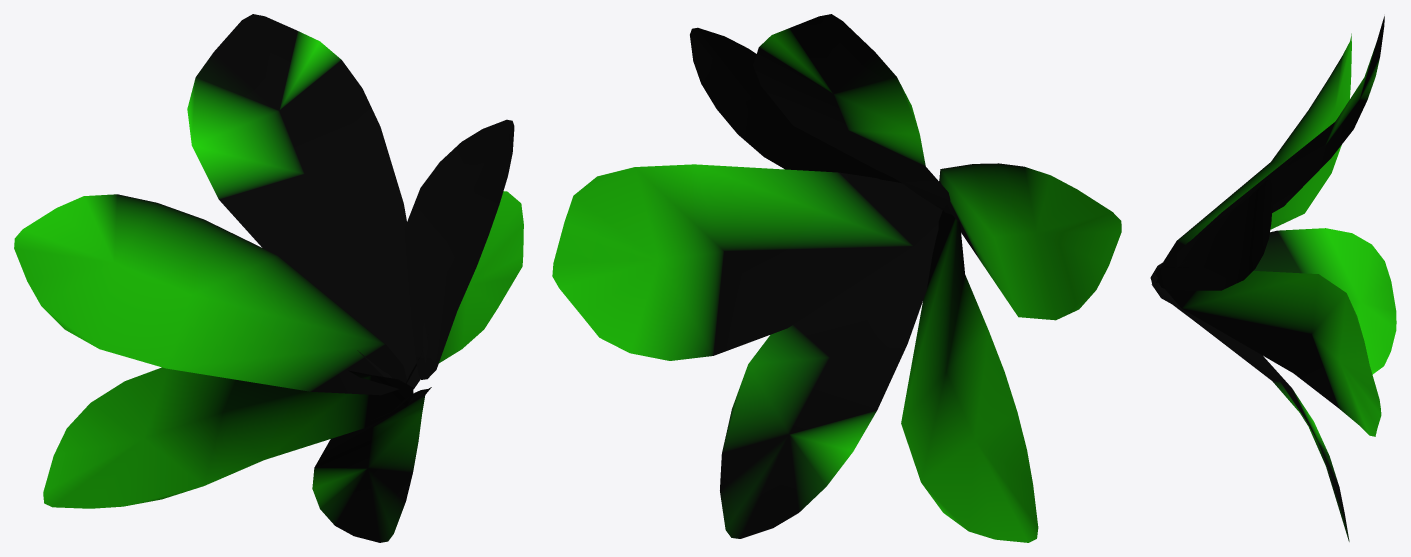
File: grass.fbx
3 views of the same model, side by side, from view 1: azimuth 30°, elevation 25°; view 2: azimuth 150°, elevation 25°; view 3: azimuth 270°, elevation 25° (orthographic). The views are drawn at different scales.
Parts seen in each view (by area): view 1: Plane.003; view 2: Plane.003; view 3: Plane.003.
Part boxes in pixels (x1,y1,x2,y2): Plane.003: (14, 14, 523, 542); Plane.003: (552, 14, 1121, 542); Plane.003: (1150, 16, 1396, 541).
Bounding box in the file's own units: 307 × 303 × 141.
